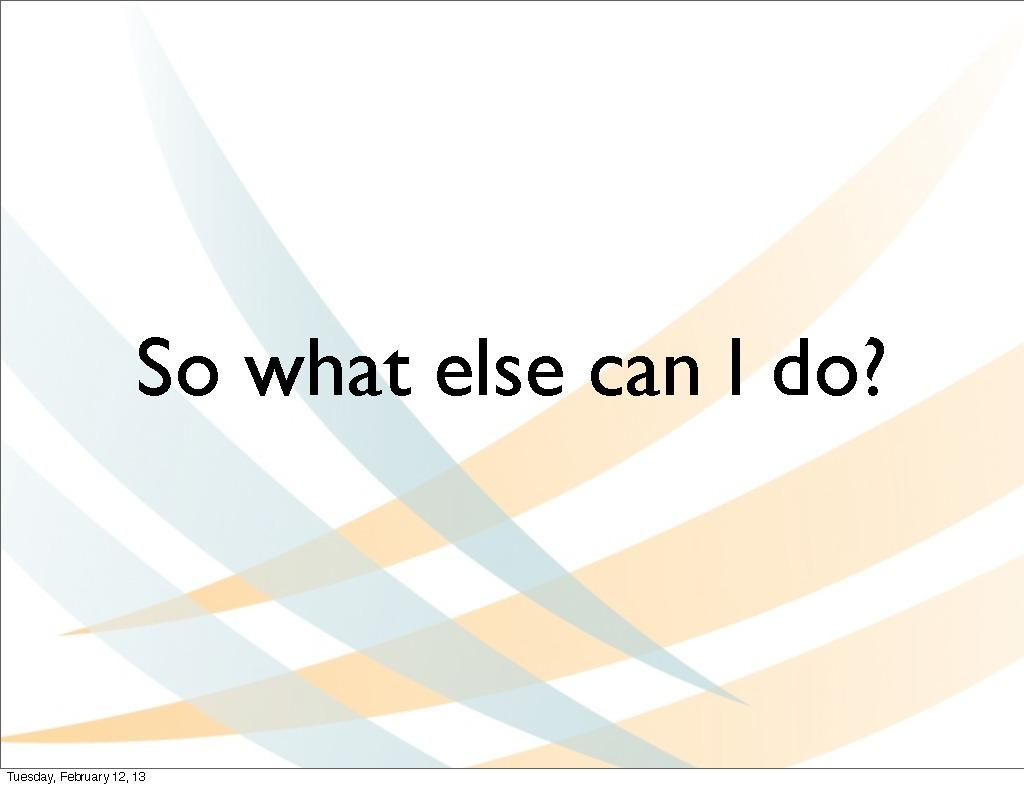title: (117, 299, 915, 451)
